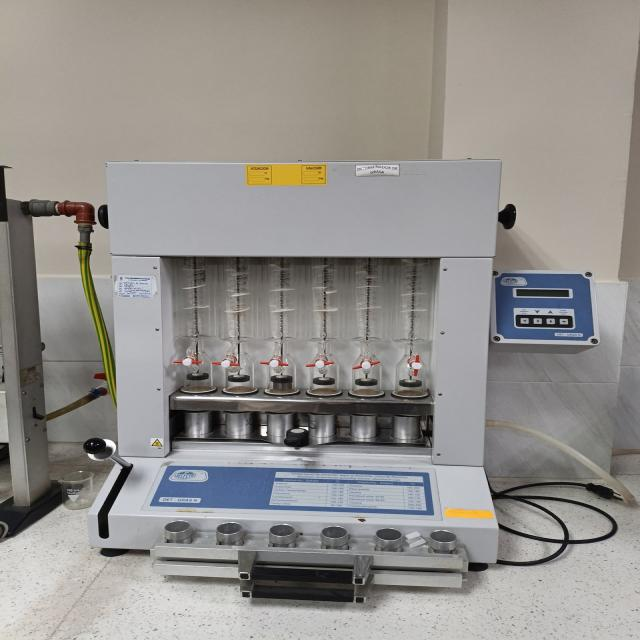Extractor de Laboratorio Automatico para Analisis de Grasas y Aceites: (89, 160, 499, 602)
